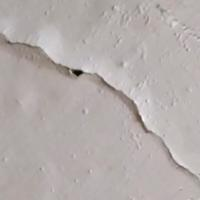crack: (0, 23, 199, 199)
